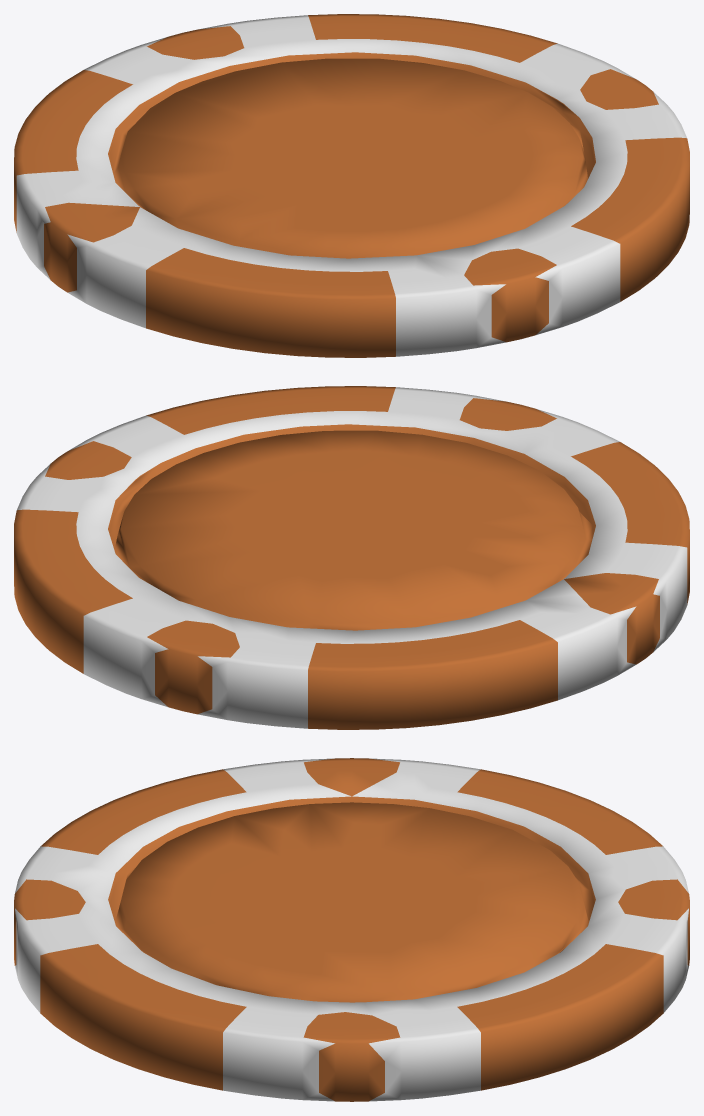
File: chip.fbx
3 renders of one model, top to bottom at view 1: azimuth 30°, elevation 25°; view 2: azimuth 150°, elevation 25°; view 3: azimuth 270°, elevation 25°, orthographic.
Parts seen in each view (by area): view 1: Chip; view 2: Chip; view 3: Chip.
Boxes of the visible parts, <box> form: Chip: <box>14,14,689,357</box>; Chip: <box>14,386,689,729</box>; Chip: <box>14,758,689,1101</box>.
Bounding box in the file's own units: 200 × 19.95 × 200.
